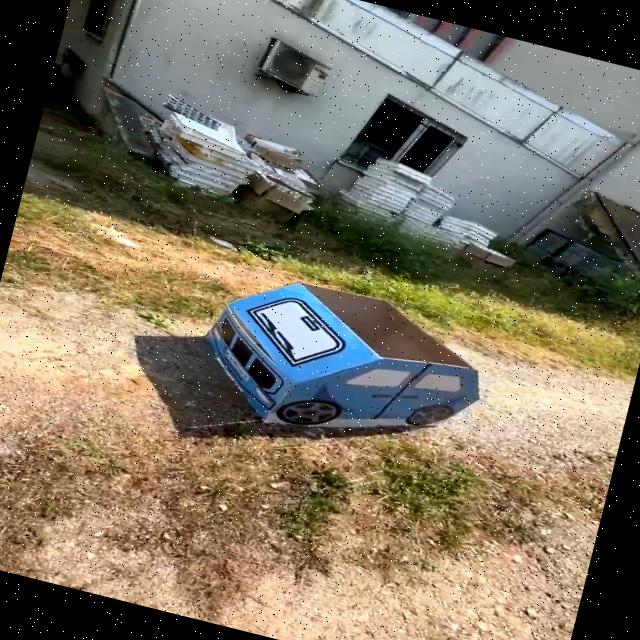blue_car: (158, 249, 524, 480)
